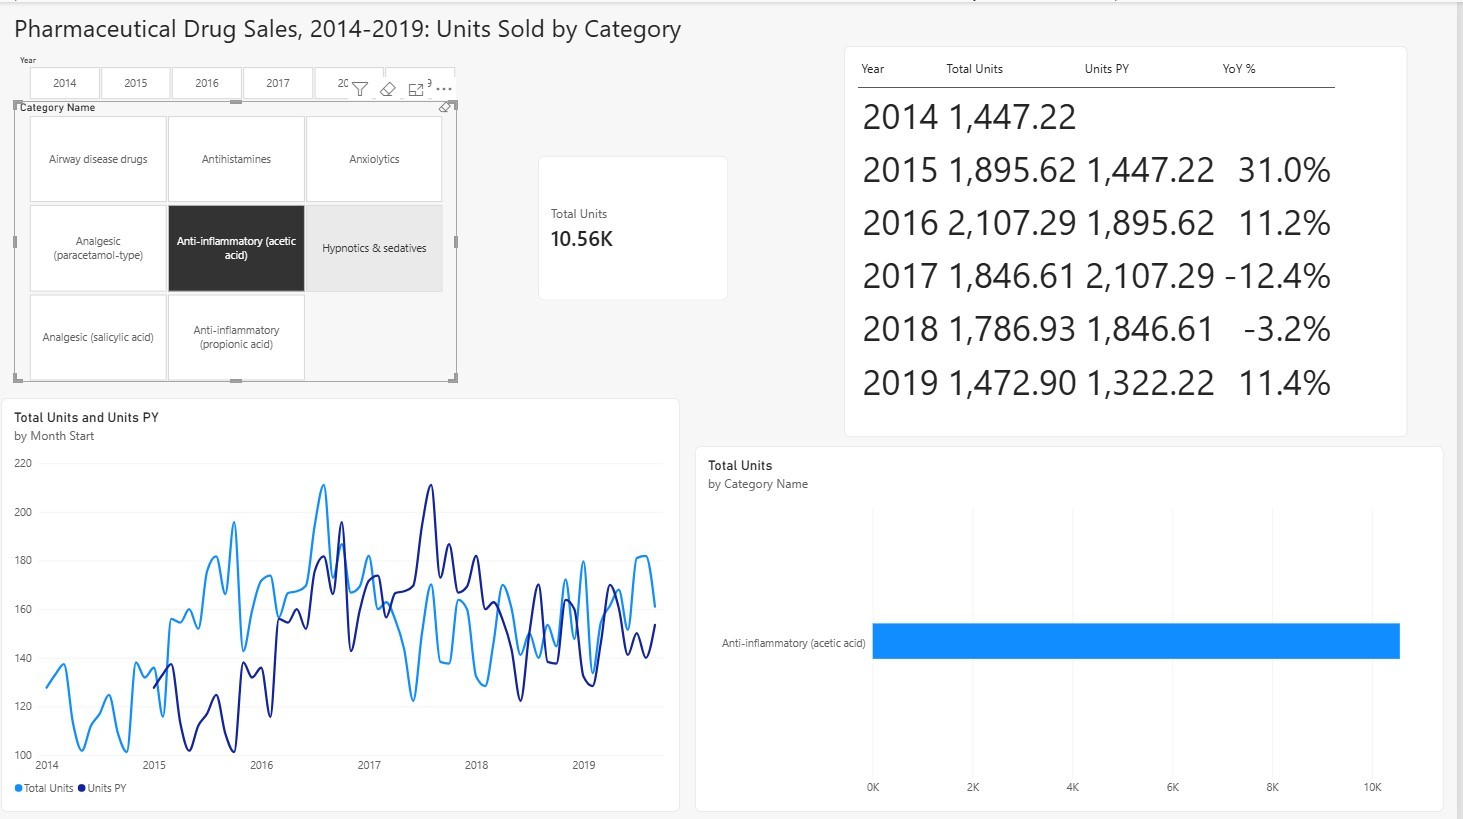

The dashboard page shown, as its layout file describes it:
{"tool":"powerbi","page":{"name":"Page 1","canvas":[1920,1080],"ordinal":0},"visuals":[{"type":"tableEx","fields":{"Values":["Calendar.Year","Sales.Total Units","Sales.Units PY","Sales.YoY %"]},"box":[640.1,169.9,970,190],"z":0},{"type":"lineChart","fields":{"Category":["Calendar.Month Start"],"Y":["Sales.Total Units","Sales.Units PY"]},"box":[2.6,521.6,894.3,545.3],"z":1},{"type":"clusteredBarChart","fields":{"Category":["Sales.Category Name"],"Y":["Sales.Total Units"]},"box":[916.7,717.8,986.5,349],"z":2},{"type":"slicer","fields":{"Values":["Calendar.Year"]},"box":[20,70,600,60],"z":3},{"type":"slicer","fields":{"Values":["Sales.Category Name"]},"box":[19.8,130.4,583.5,370.1],"z":4},{"type":"textbox","box":[20,10,1240,50],"z":5},{"type":"cardVisual","fields":{"Data":["Sales.Total Units"]},"box":[929.9,445.2,250,190],"z":6}]}

Visuals, with their boxes in screenshot pixels (x1, y1, x2, y2), scaled from the page's 1920x1080 canvas onto the 1463x819 screenshot:
tableEx - Calendar.Year x Sales.Total Units: locate(488, 129, 1227, 273)
lineChart - Calendar.Month Start x Sales.Total Units: locate(2, 396, 683, 809)
clusteredBarChart - Sales.Category Name x Sales.Total Units: locate(699, 544, 1450, 809)
slicer - Calendar.Year: locate(15, 53, 472, 99)
slicer - Sales.Category Name: locate(15, 99, 460, 380)
textbox: locate(15, 8, 960, 46)
cardVisual - Sales.Total Units: locate(709, 338, 899, 482)
